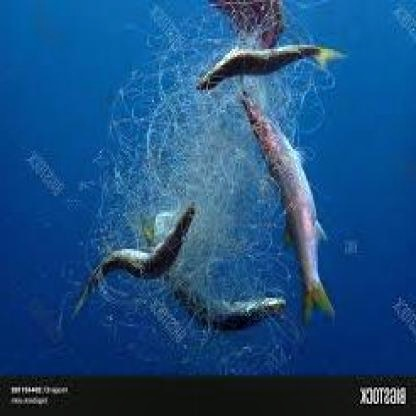net: (93, 26, 320, 342)
